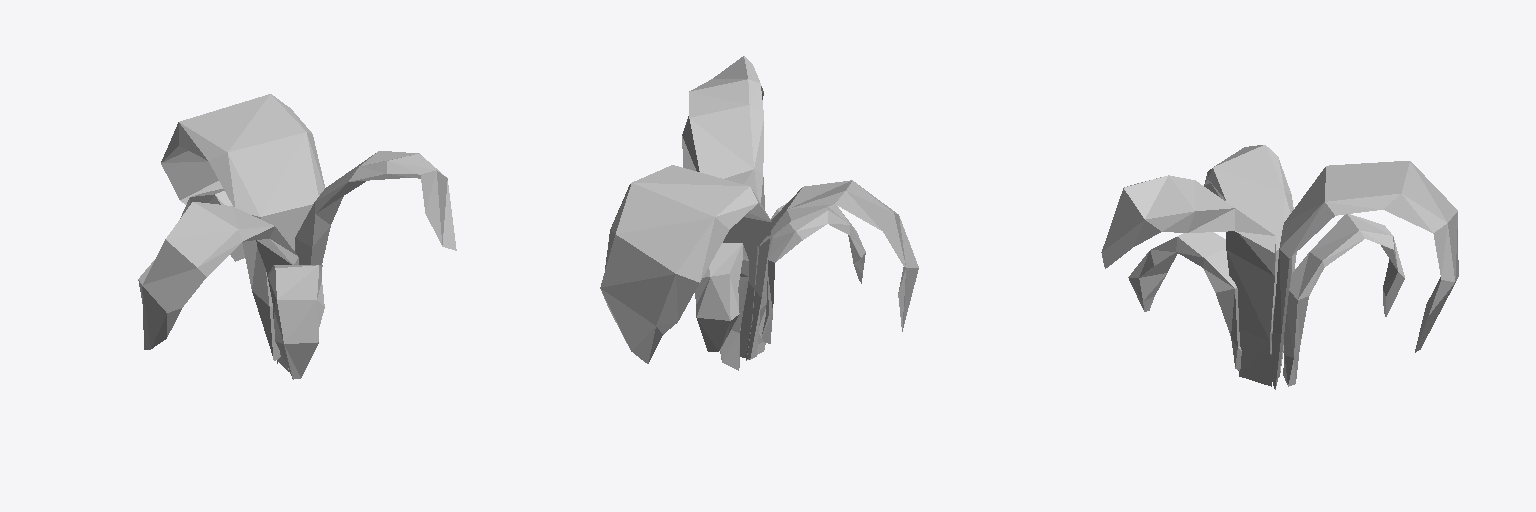
File: plant_1.obj
3 renders of one model, left to right at view 1: azimuth 30°, elevation 25°; view 2: azimuth 150°, elevation 25°; view 3: azimuth 270°, elevation 25°, orthographic.
Parts seen in each view (by area): view 1: plant_1; view 2: plant_1; view 3: plant_1.
Boxes of the visible parts, <box> form: plant_1: <box>138,94,456,379</box>; plant_1: <box>600,56,918,370</box>; plant_1: <box>1101,145,1458,389</box>.
Bounding box in the file's own units: 1.02 × 0.9046 × 1.24.